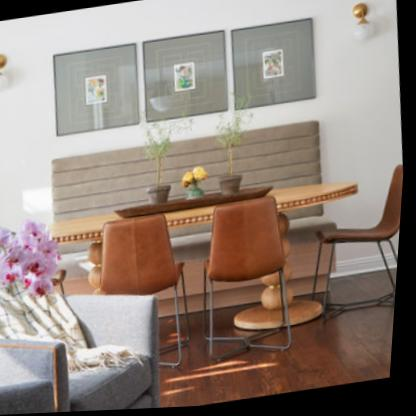Dining Table: (53, 158, 407, 348)
